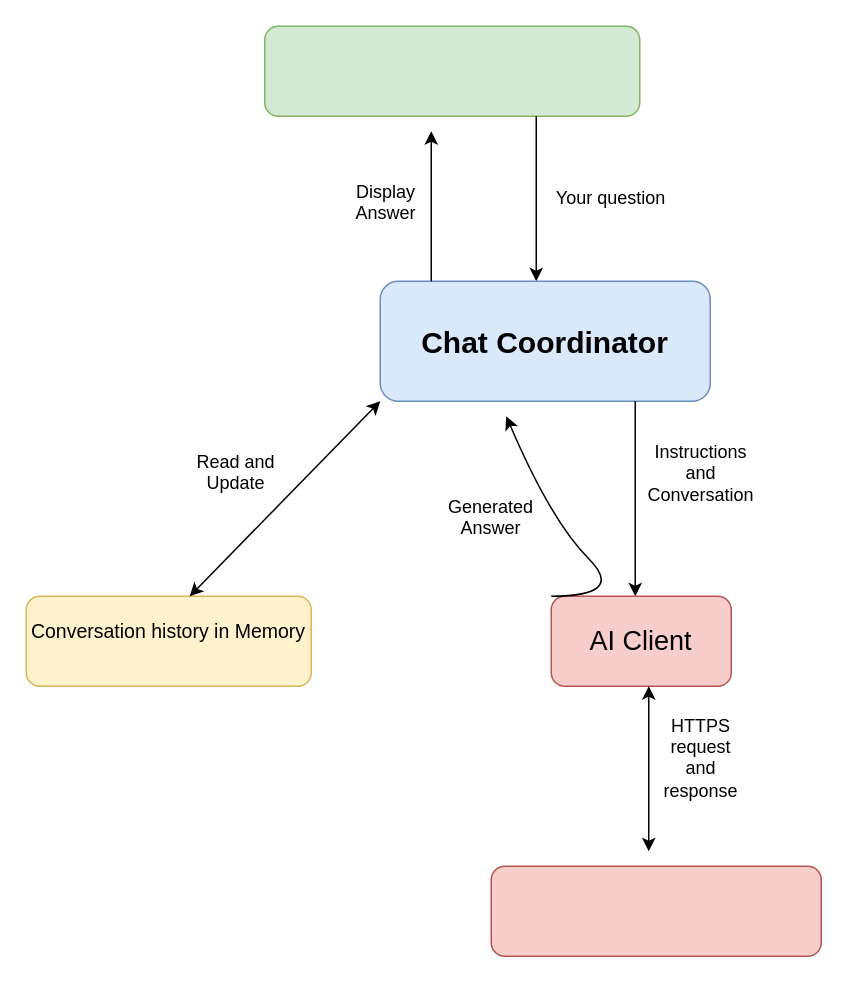
This 848x983 diagram has some shape labels left out. The centre of each missing label's shape, as x and y in pixels:
"Gemini API - Google Servers" belongs at point 655,910.
"Terminal input and output" belongs at point 451,70.
